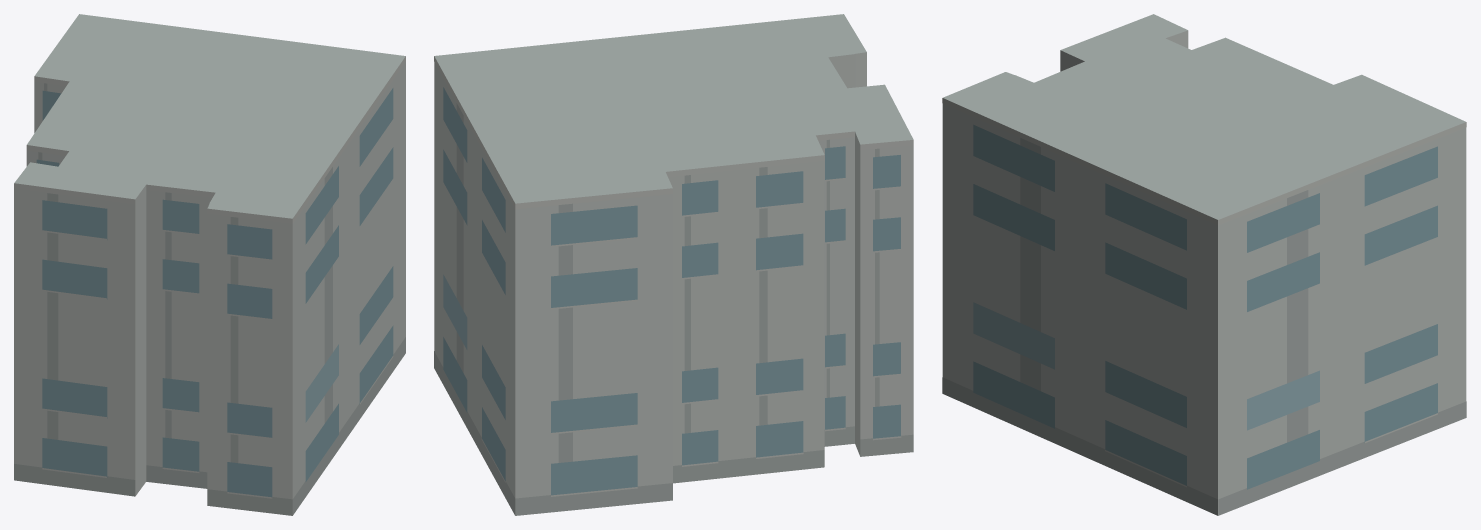
File: survey-upis-32983437.glb
The picture shows the model from 3 angles, left to right: view 1: azimuth 30°, elevation 25°; view 2: azimuth 150°, elevation 25°; view 3: azimuth 270°, elevation 25°; orthographic projection. The views are drawn at different scales.
Parts seen in each view (by area): view 1: survey-upis-32983437.tmp; view 2: survey-upis-32983437.tmp; view 3: survey-upis-32983437.tmp.
Boxes of the visible parts, <box> form: survey-upis-32983437.tmp: <box>14,14,405,515</box>; survey-upis-32983437.tmp: <box>434,14,913,515</box>; survey-upis-32983437.tmp: <box>942,14,1466,515</box>.
Bounding box in the file's own units: 19.84 × 13.28 × 21.32.
